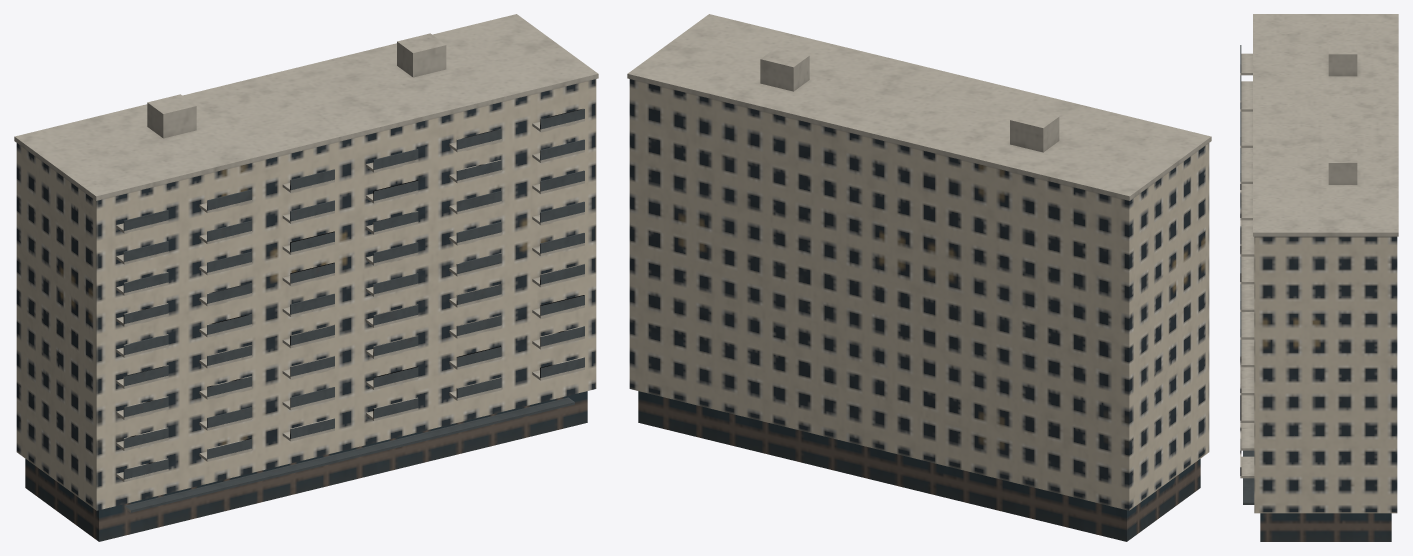
Rendered from apartment-block.fbx.
3 renders of one model, left to right at view 1: azimuth 30°, elevation 25°; view 2: azimuth 150°, elevation 25°; view 3: azimuth 270°, elevation 25°, orthographic. The views are drawn at different scales.
Parts seen in each view (by area): view 1: apartment-block; view 2: apartment-block; view 3: apartment-block.
Part boxes in pixels (box(x1,y1,x2,y2)): apartment-block: box(14, 14, 598, 541); apartment-block: box(627, 14, 1211, 541); apartment-block: box(1240, 14, 1398, 541).
Size of the model in its own units: 5068 by 3612 by 1554.
Materials: 1 (1 with a texture image).
